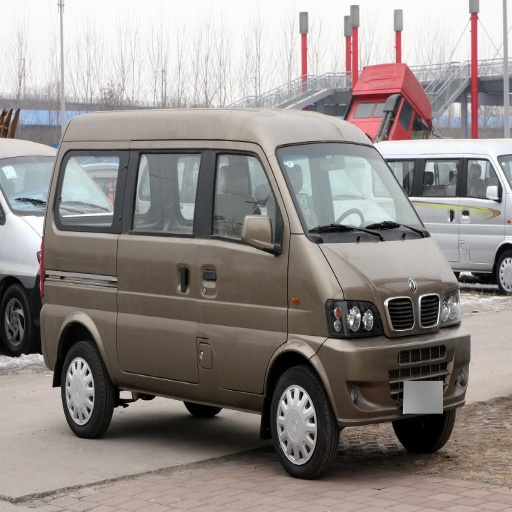front_bumper: (323, 285, 470, 424)
front_glass: (276, 144, 426, 241)
front_left_door: (118, 278, 223, 381)
front_right_door: (198, 147, 288, 390)
front_right_light: (327, 299, 375, 336)
trunk: (178, 298, 220, 343)
